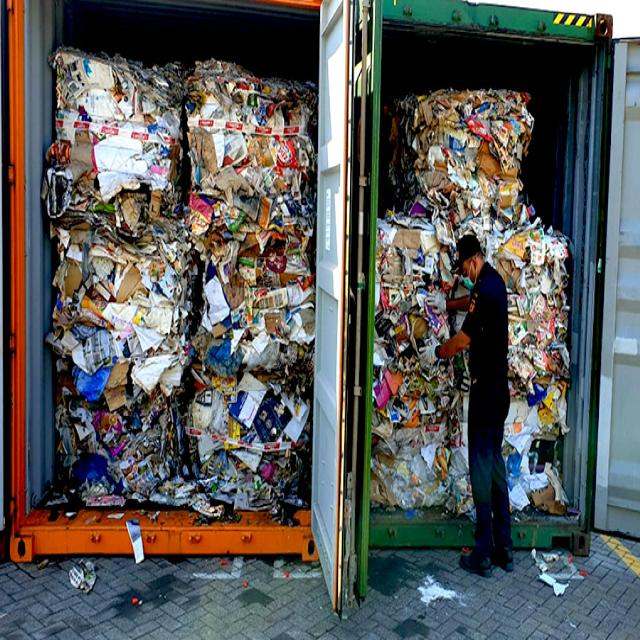Kertas: (52, 21, 174, 228), (188, 48, 322, 236), (47, 230, 192, 398), (199, 231, 314, 403), (393, 76, 541, 207), (458, 205, 555, 380), (51, 386, 196, 482), (378, 218, 474, 356), (194, 384, 295, 501), (374, 381, 462, 492)
